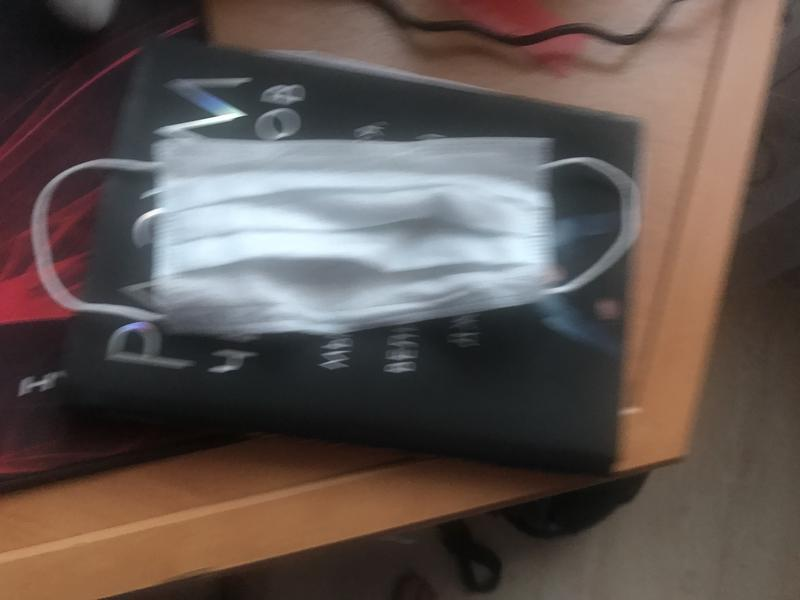medical_mask: (30, 156, 637, 330)
